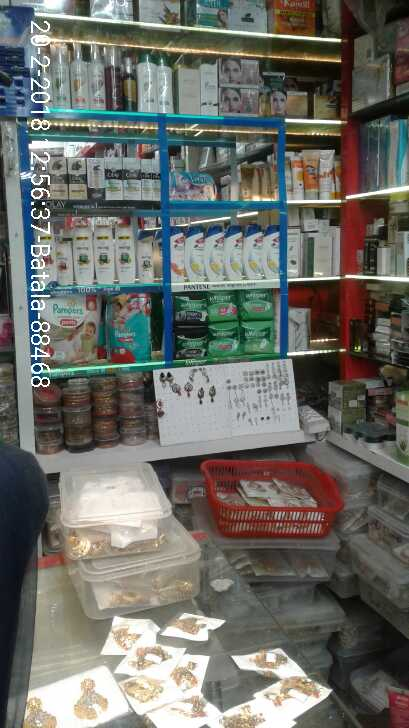venus: (174, 172, 214, 201)
